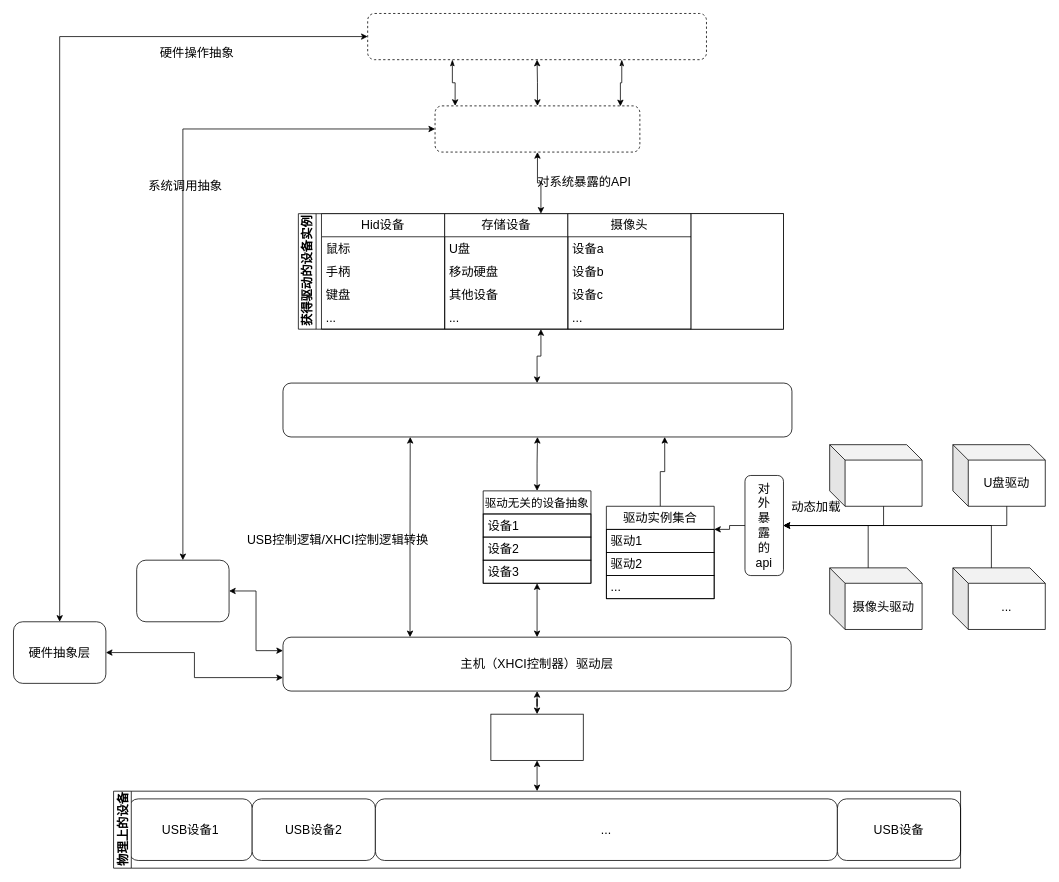
Image size: 1059x882. Some labels were removed from this diagram. The centre of each missing label's shape, as x and y in pixels:
USB驱动层: the point at 537,409
其他类型设备 ...: the point at 736,271
控制器主机: the point at 536,736
操作系统: the point at 537,128
硬件ISA: the point at 536,36
系统抽象层: the point at 182,590
鼠标驱动: the point at 875,475
